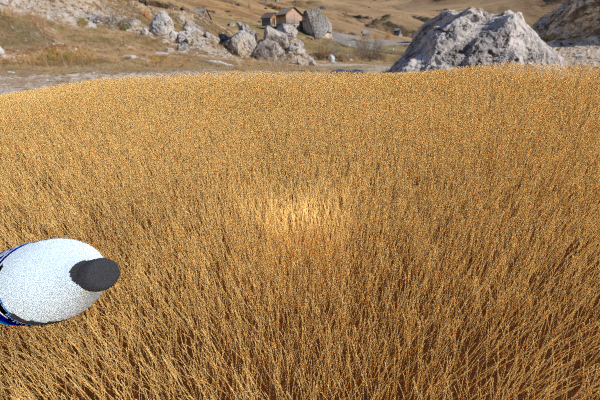bottle: (0, 238, 119, 326)
can: (252, 110, 307, 143), (213, 80, 247, 99)
